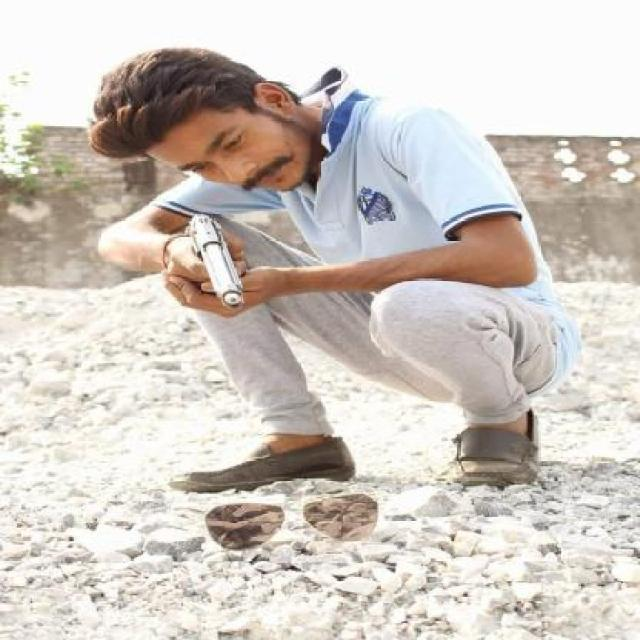Handgun: (177, 208, 254, 316)
